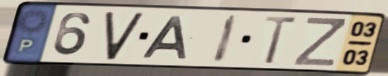6: (52, 11, 93, 58)
A: (139, 15, 190, 61)
I: (210, 13, 242, 66)
T: (262, 14, 301, 66)
V: (103, 11, 147, 62)
Z: (291, 15, 348, 68)
